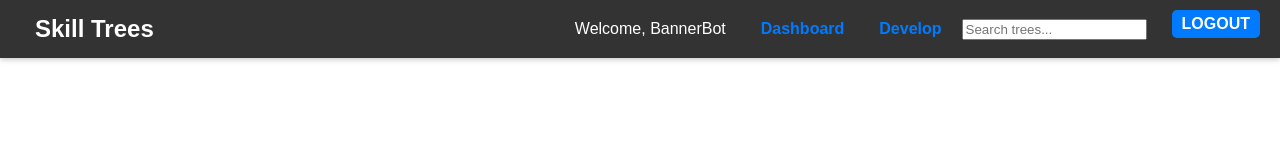
Test: displays search results based on tree key or label
The image size is (1280, 160).
Type "math" into the field with placeholder "Search trees..." at (1054, 30), box left=962, top=19, right=1147, bottom=40
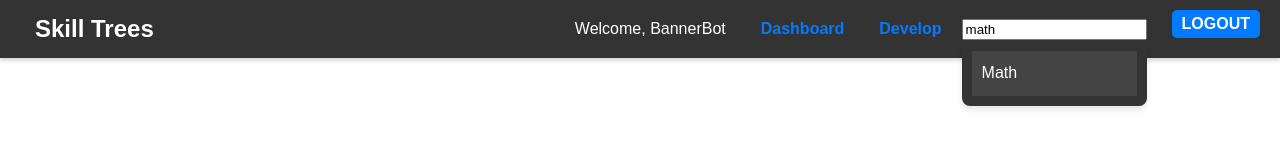
Check: the list item "Math" is shown, box left=972, top=51, right=1137, bottom=96
